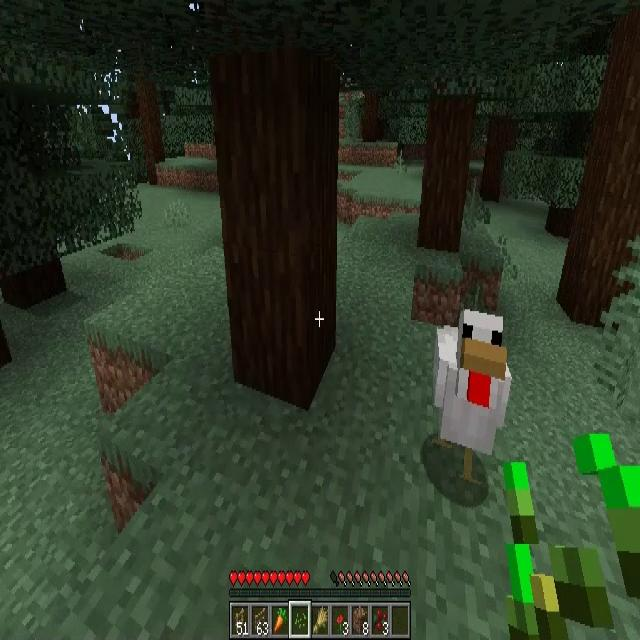duck: (434, 311, 512, 487)
